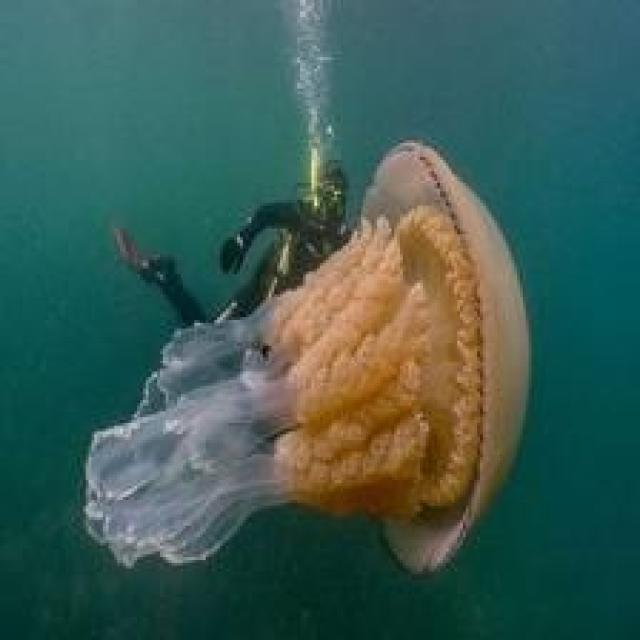Box-jellyfish: (80, 134, 531, 577)
